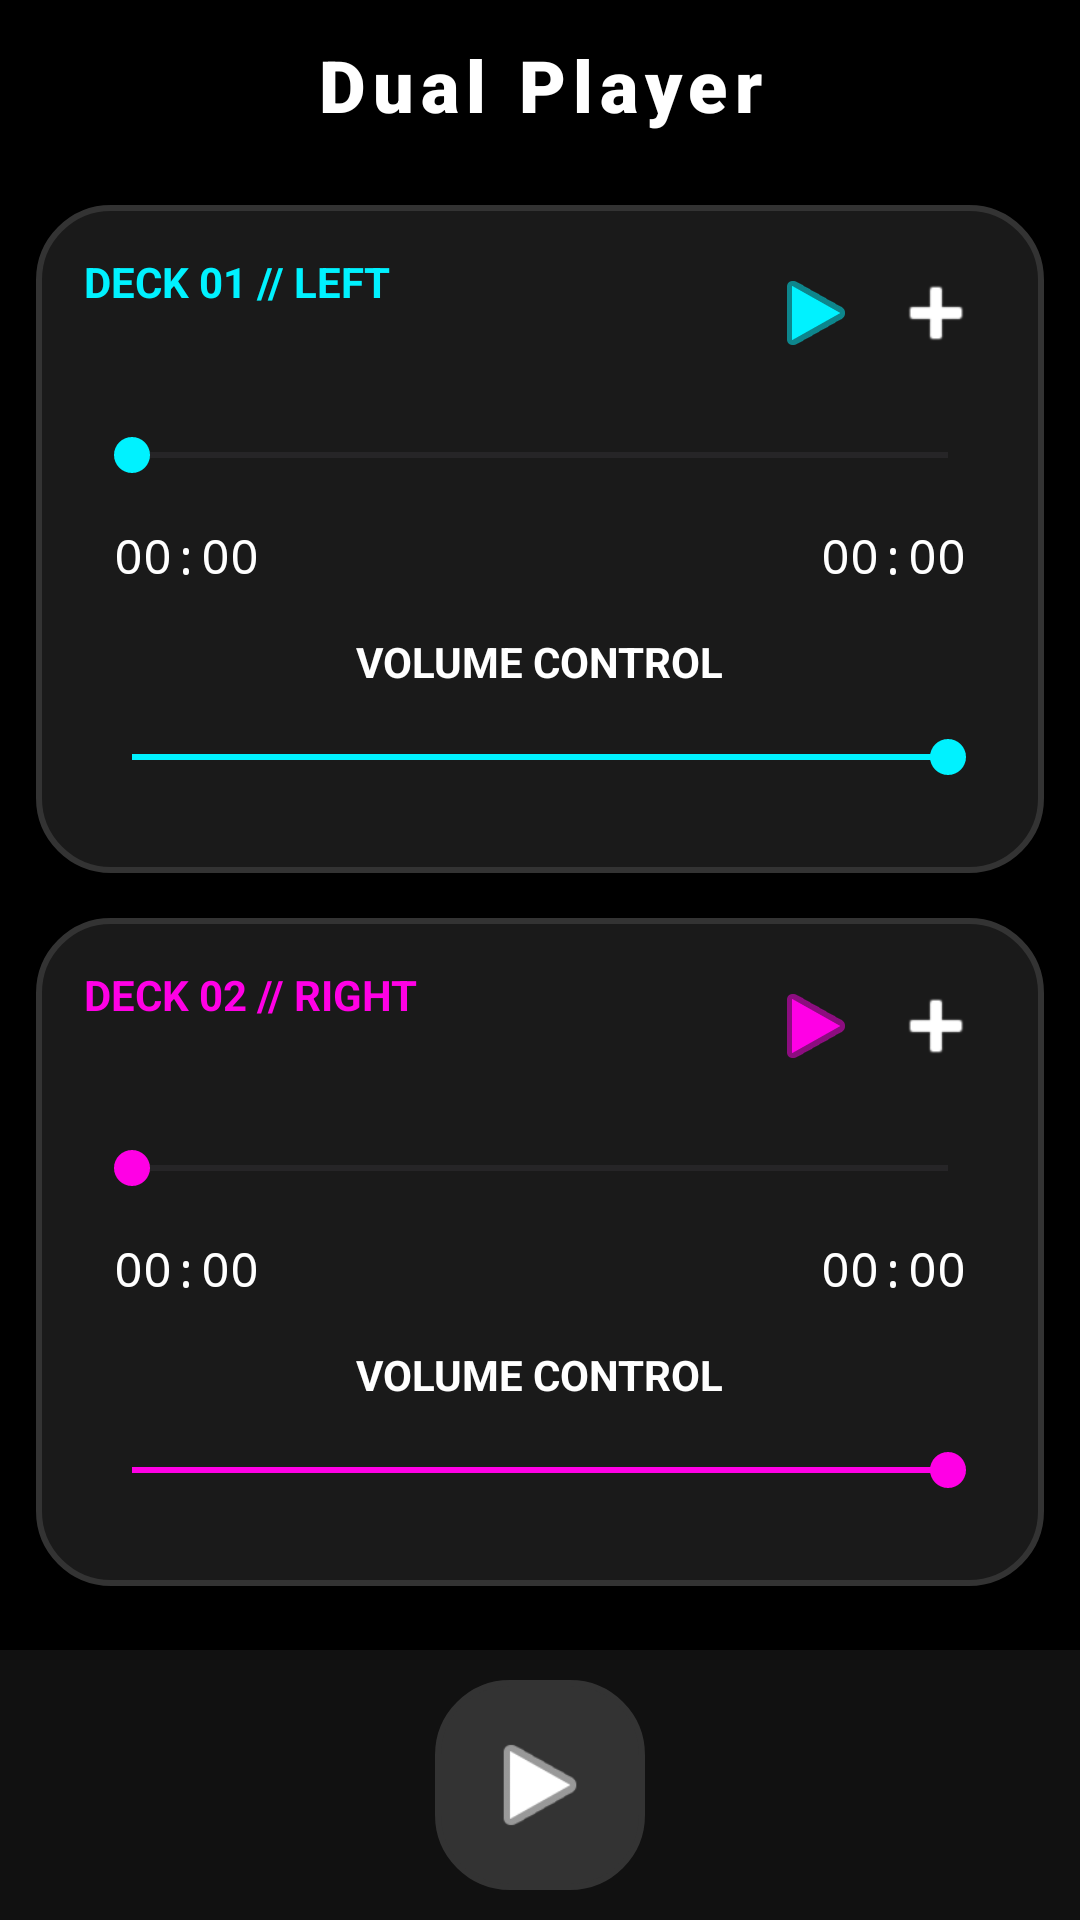

Icons on this 1080w x 1920h Android screen, each with the point to tap as point (x, y):
add: point (936, 313), point (936, 1026)
